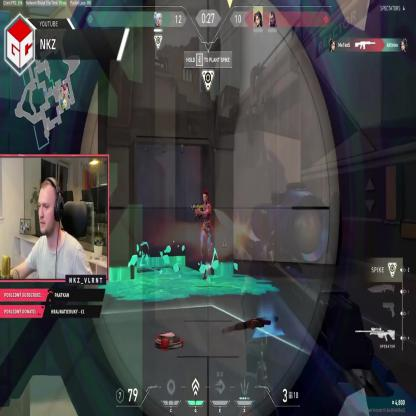enemy: (197, 191, 214, 279)
enemy_head: (203, 191, 209, 205)
